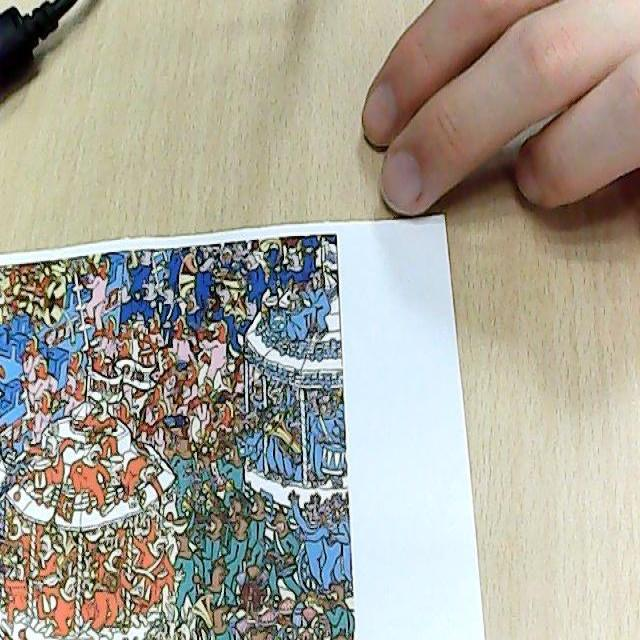waldo: (231, 385, 244, 420)
